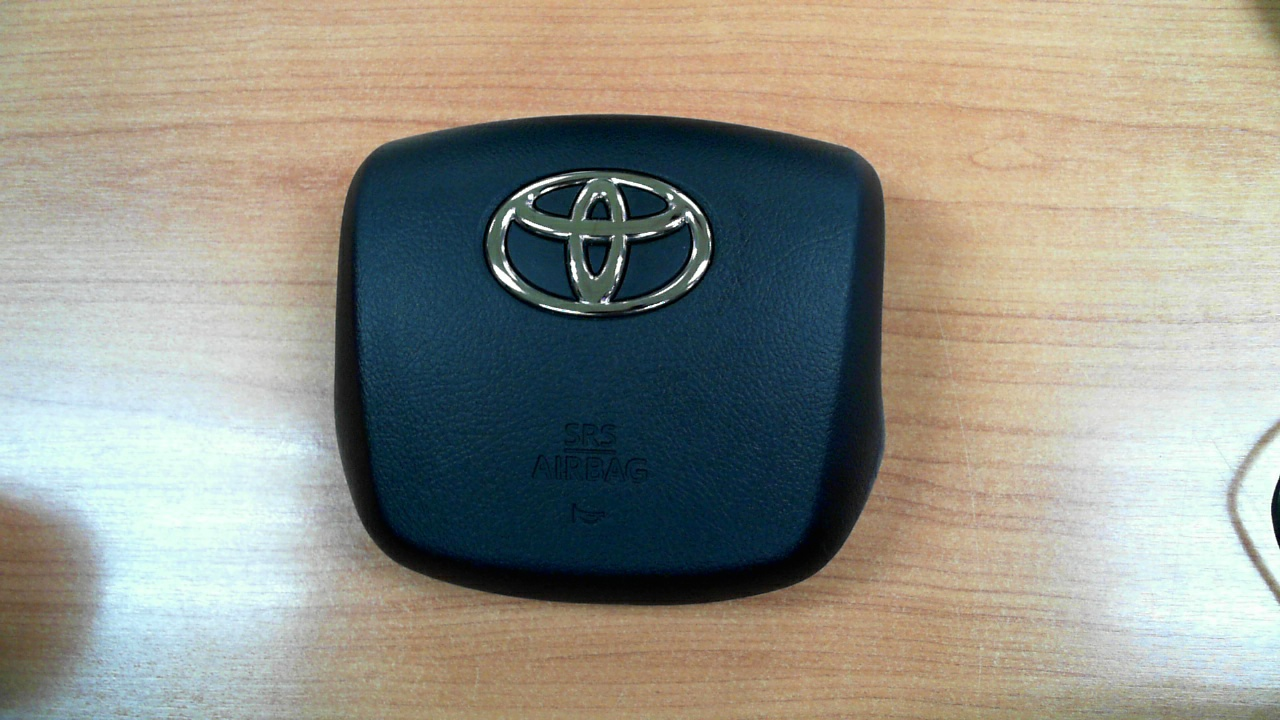Airbag: (317, 93, 922, 626)
